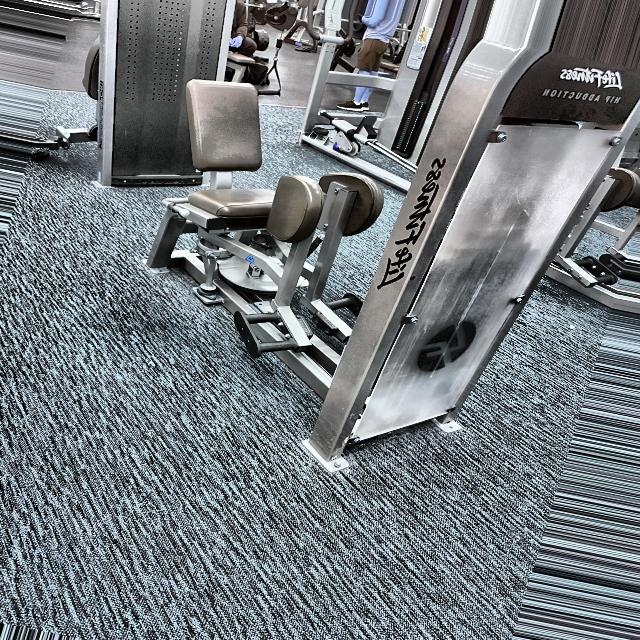hip_adduction_machine: (181, 54, 376, 393), (534, 84, 630, 117)
